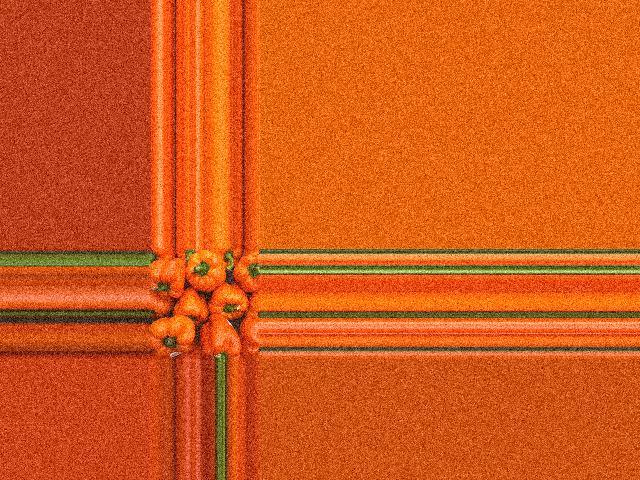bell_pepper: (240, 315, 258, 360)
